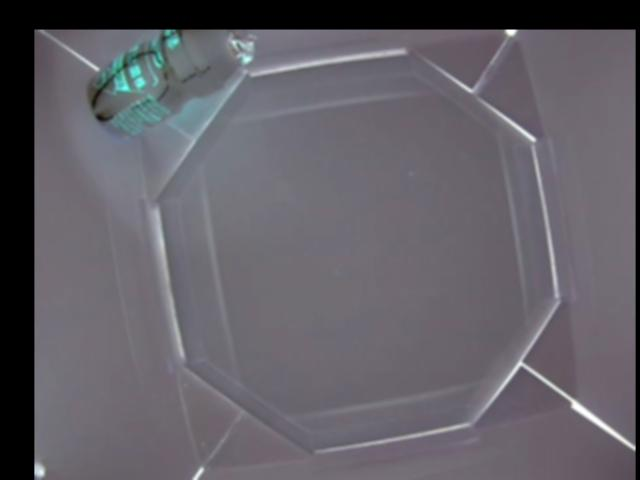Bottle: (85, 30, 256, 141)
